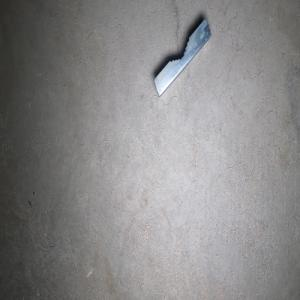ClampPart: (153, 16, 211, 98)
